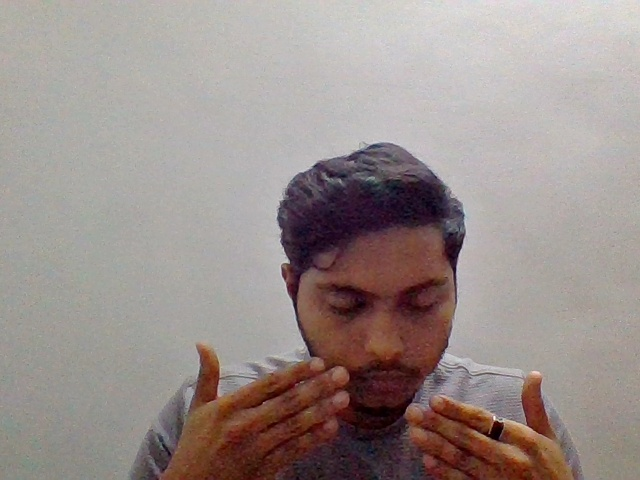Thanks: (159, 336, 582, 480)
